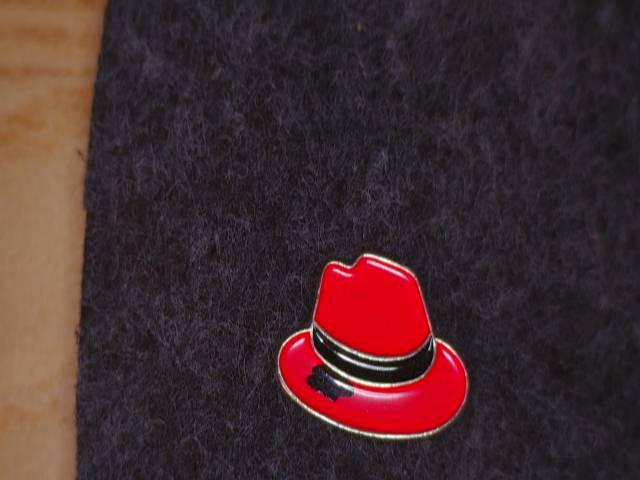Red-Hat: (273, 245, 476, 445)
Scratch: (301, 351, 366, 409)
